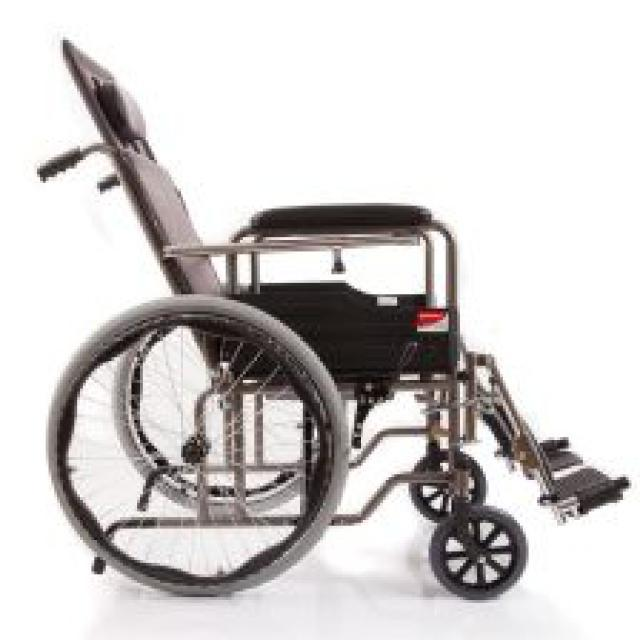wheelchair: (34, 25, 637, 620)
